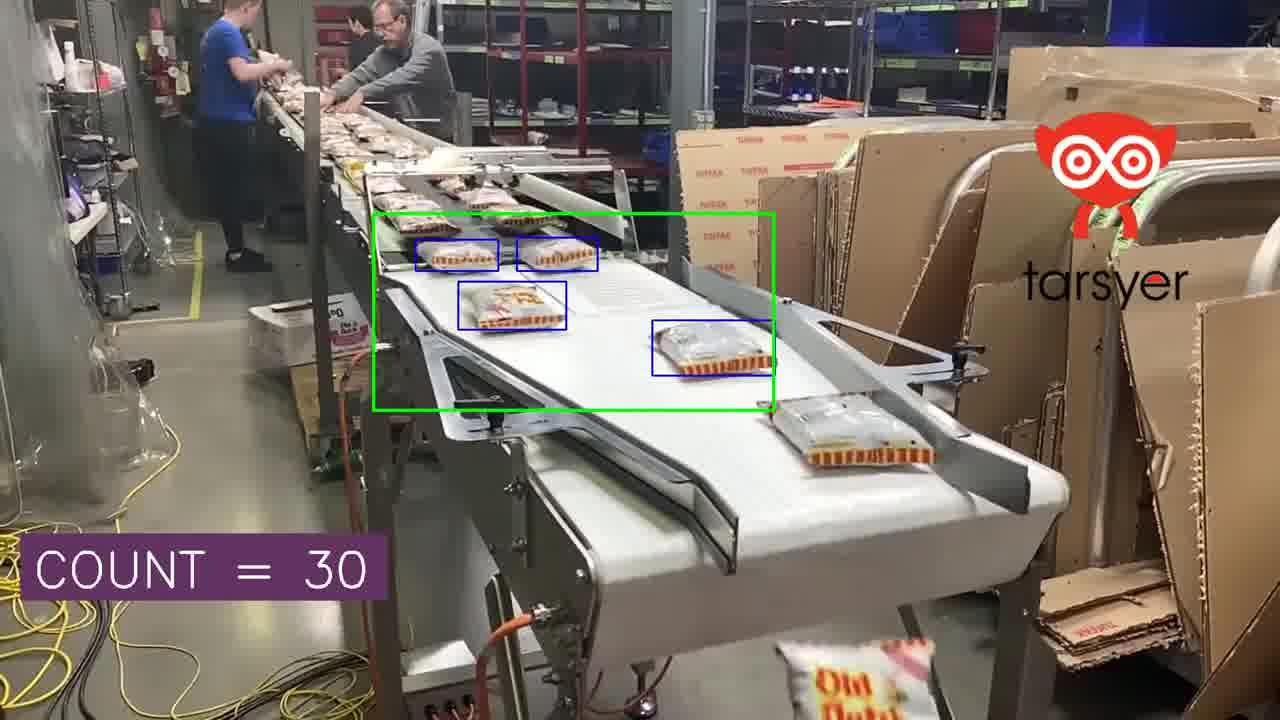Snack: (777, 640, 938, 719), (771, 393, 935, 466), (655, 323, 771, 375), (461, 283, 565, 329), (373, 192, 460, 236), (519, 238, 597, 269), (416, 241, 497, 270), (489, 205, 565, 235), (387, 215, 460, 236), (458, 187, 519, 210), (374, 192, 440, 212), (368, 134, 417, 158), (321, 136, 372, 157), (336, 156, 368, 186), (348, 120, 389, 140), (366, 175, 407, 195), (437, 176, 469, 198), (321, 115, 353, 136), (329, 112, 370, 127), (281, 97, 304, 114)
